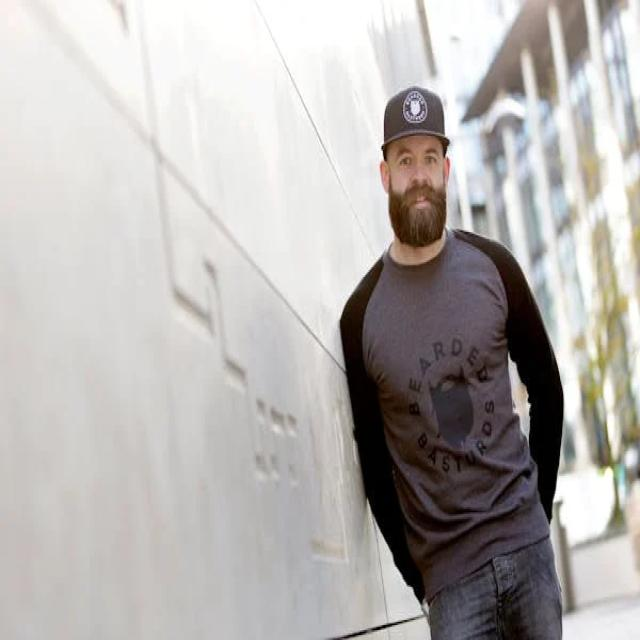Real human 2: (330, 66, 596, 640)
